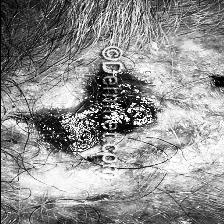Potentially Malignant Skin Tumors: (28, 93, 98, 159), (119, 72, 156, 145)
